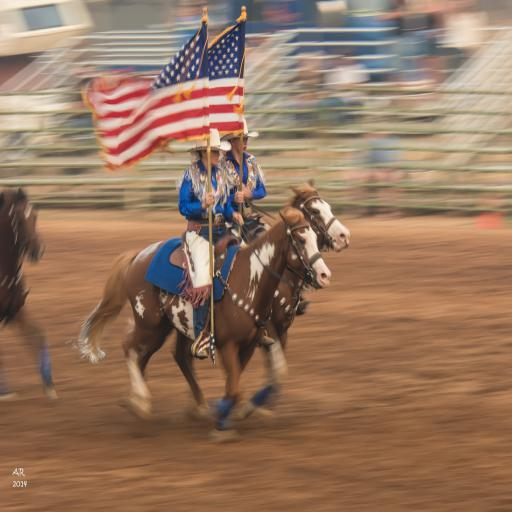Horse: (81, 206, 331, 432), (172, 175, 352, 422), (0, 184, 58, 401)
